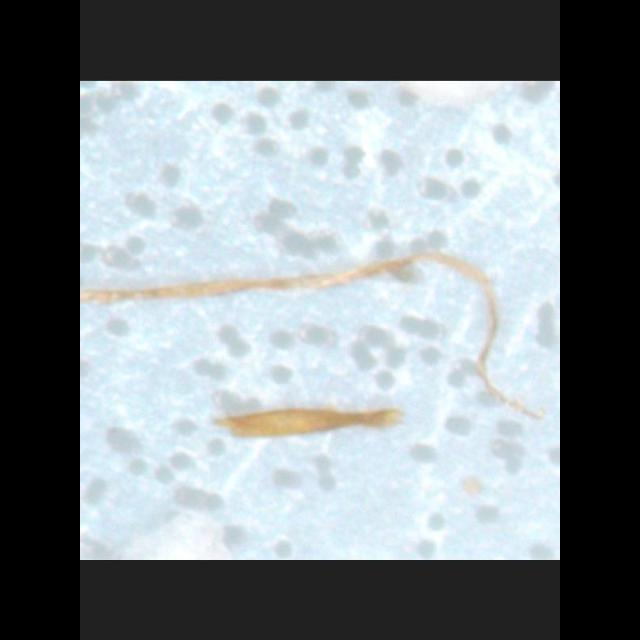Fibre: (80, 249, 548, 423)
